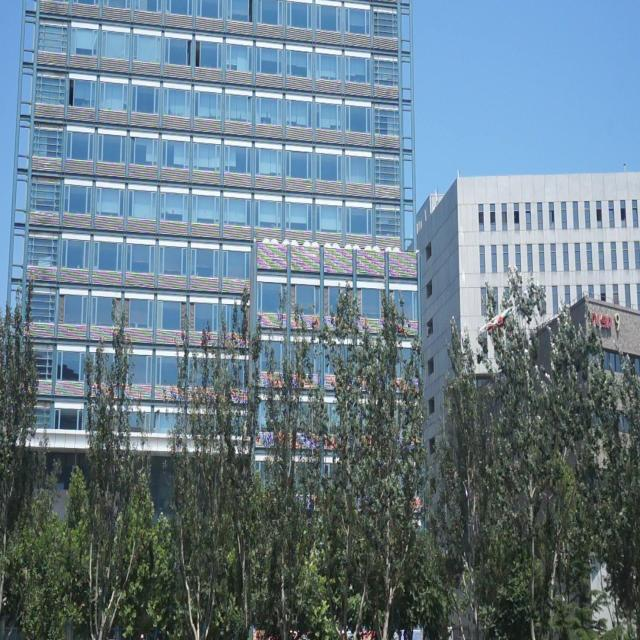drone: (478, 305, 509, 337)
